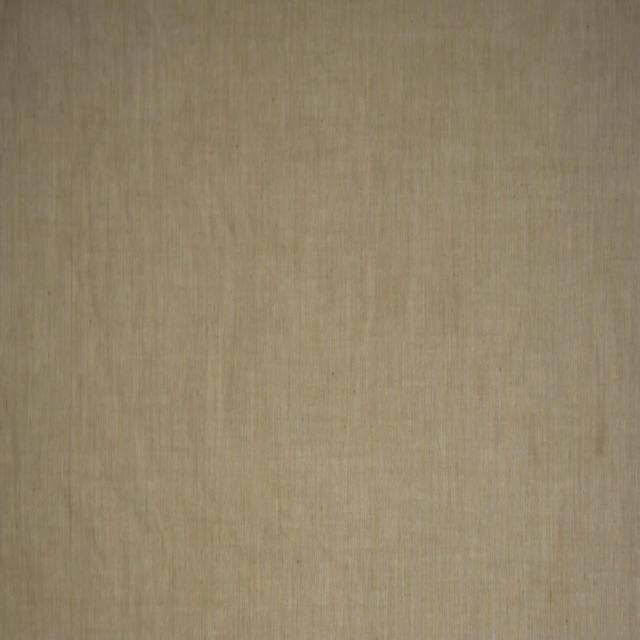dirty: (595, 427, 605, 458)
